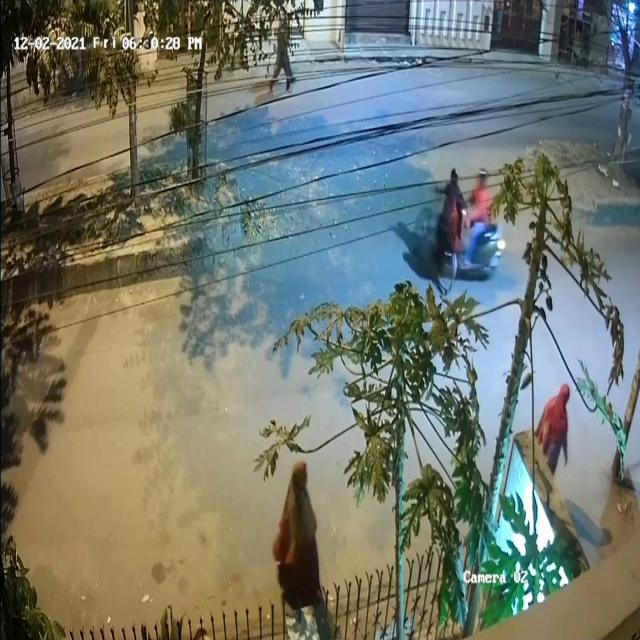accident: (414, 161, 515, 295)
